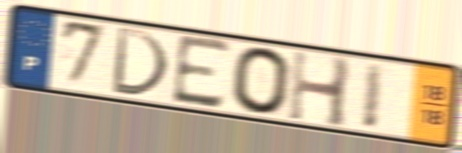7: (58, 17, 111, 92)
D: (108, 24, 172, 100)
E: (169, 32, 234, 113)
H: (285, 46, 355, 131)
I: (359, 60, 388, 132)
O: (230, 45, 294, 118)
